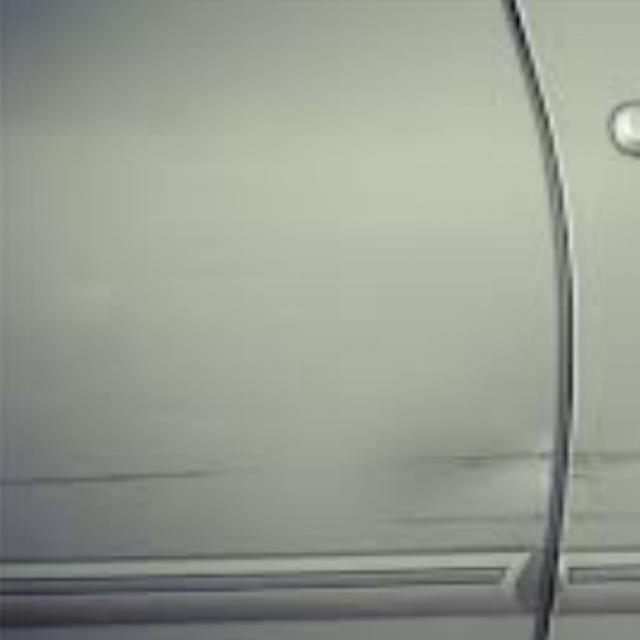dents: (380, 404, 602, 559)
